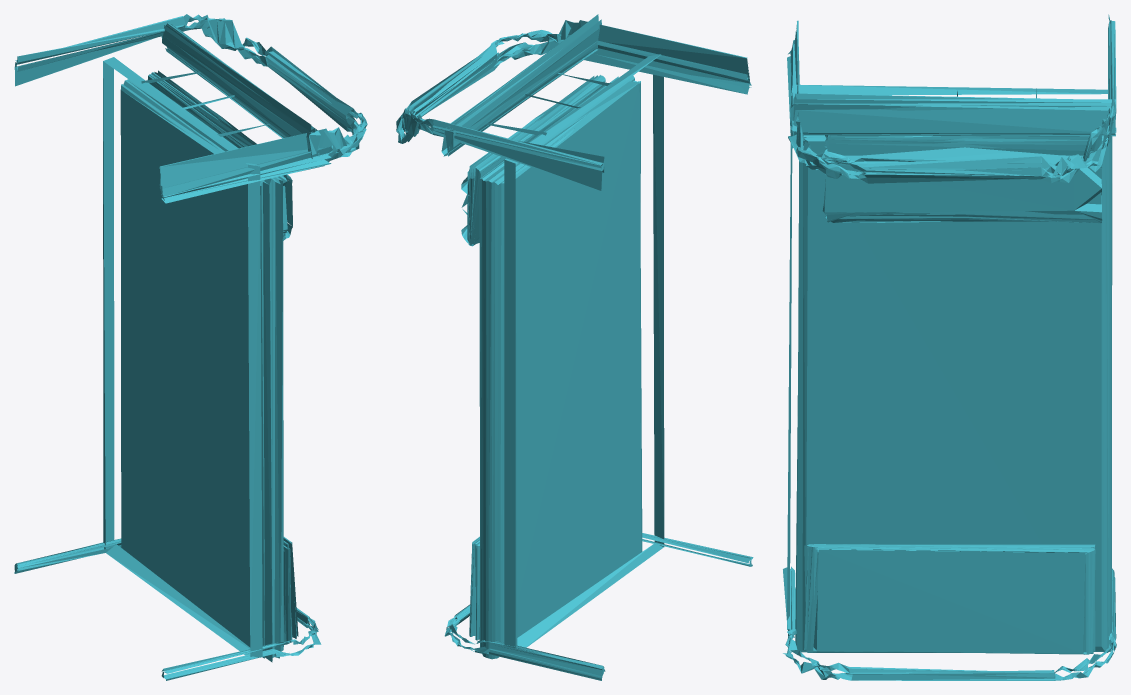
3 renders of one model, left to right at view 1: azimuth 30°, elevation 25°; view 2: azimuth 150°, elevation 25°; view 3: azimuth 270°, elevation 25°, orthographic. The views are drawn at different scales.
Visible parts, largest first — view 1: Renderer Node; view 2: Renderer Node; view 3: Renderer Node.
Boxes of the visible parts, <box> form: Renderer Node: <box>14,14,367,680</box>; Renderer Node: <box>396,14,753,680</box>; Renderer Node: <box>783,14,1116,680</box>.
Size of the model in its own units: 0.3865 by 0.8485 by 0.4456.
Materials: 1 (1 with a texture image).
